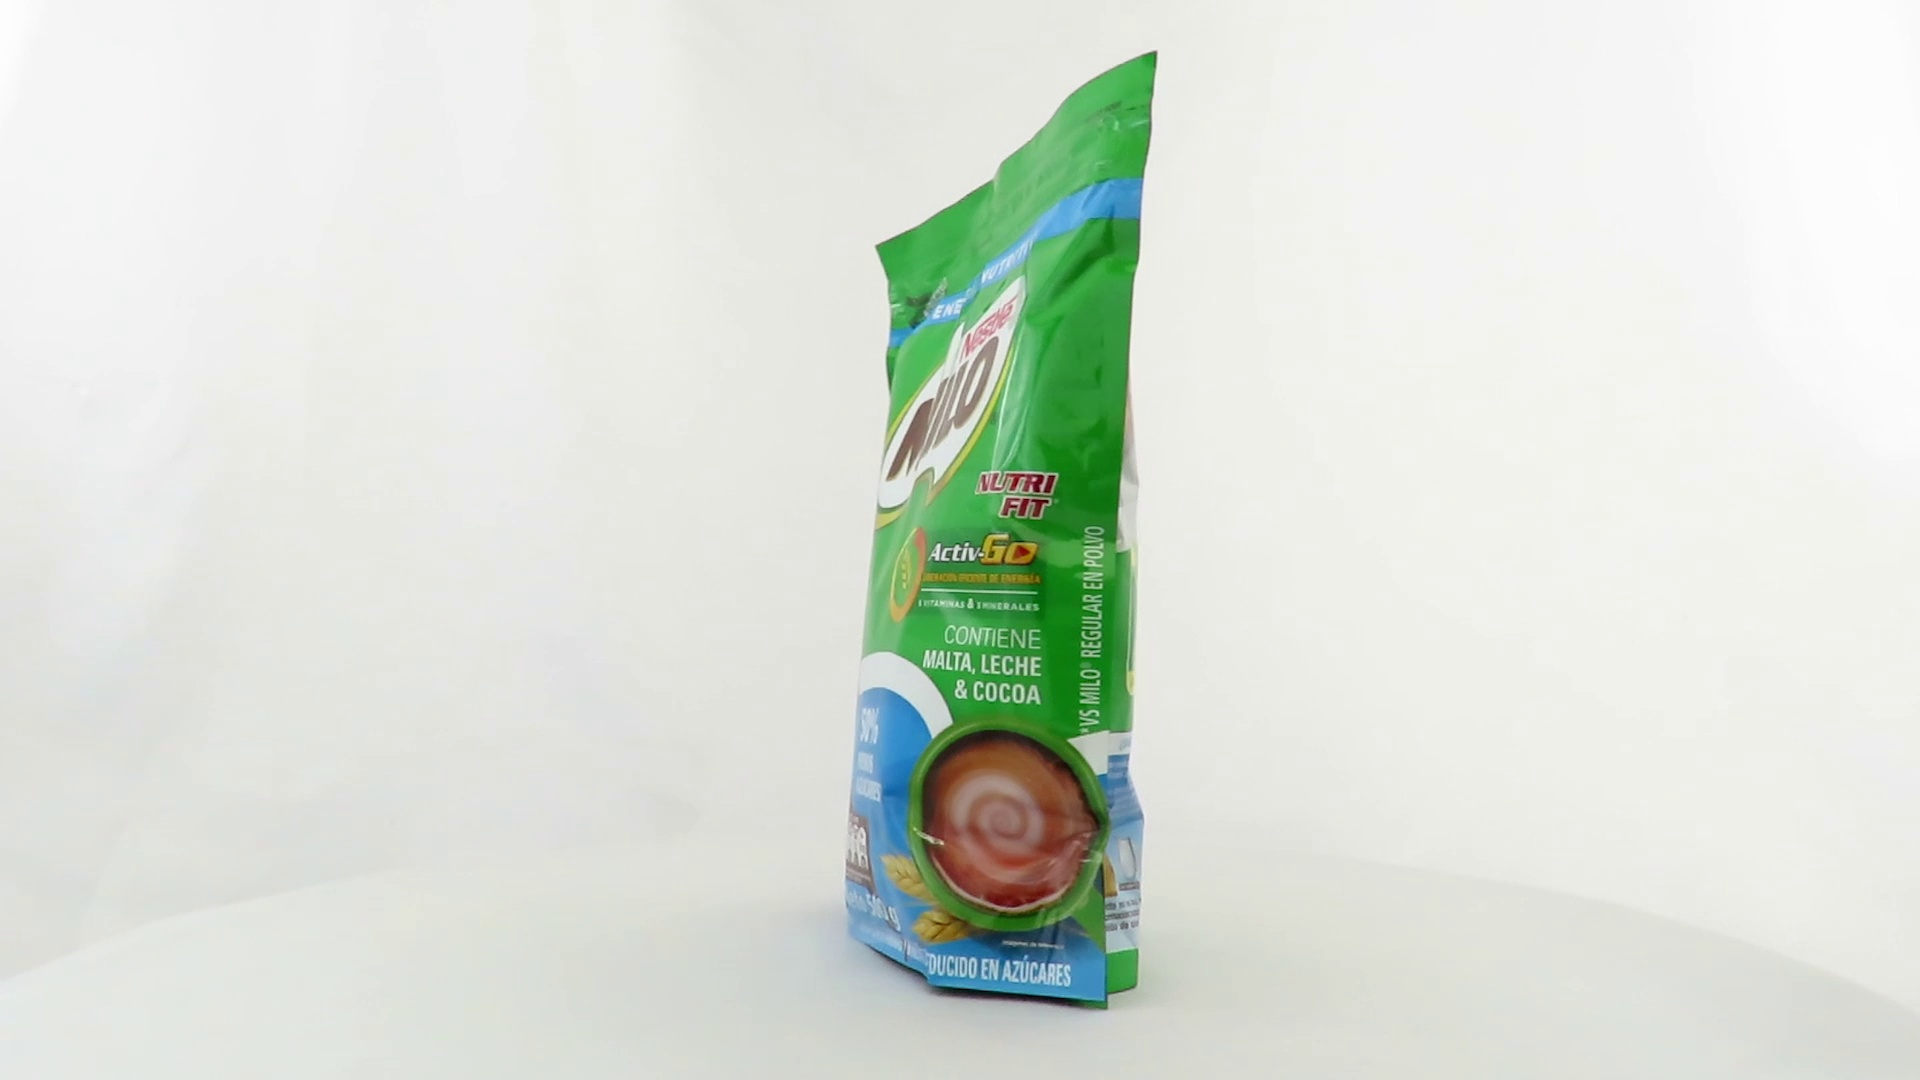COL0170205DYP50000: (839, 45, 1164, 1017)
